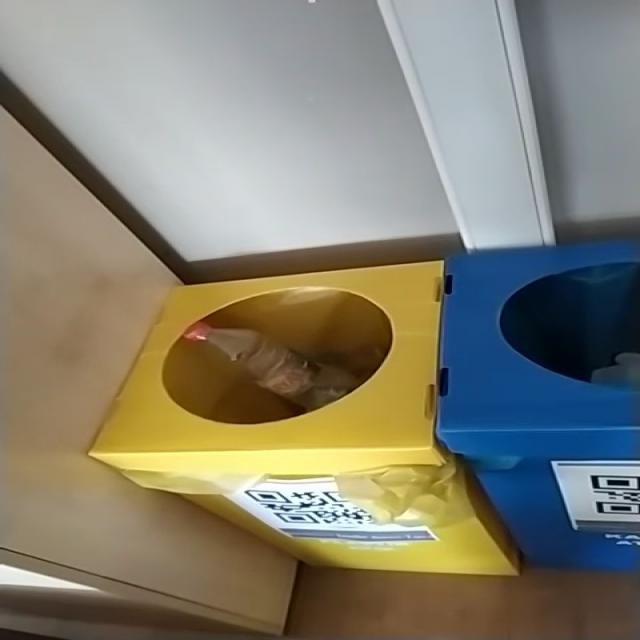plastic: (183, 322, 361, 411)
